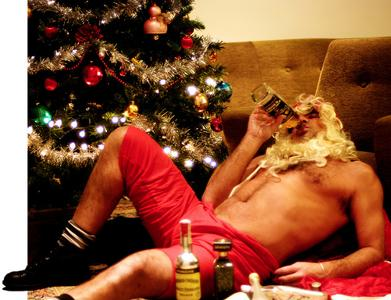person: (5, 84, 387, 300)
